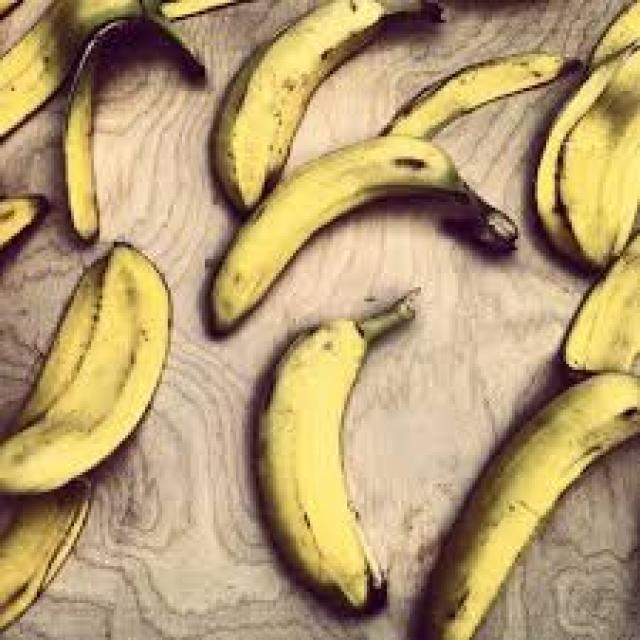Cascara de banano: (398, 368, 640, 640), (210, 143, 512, 343), (252, 286, 416, 619), (210, 0, 437, 219)
